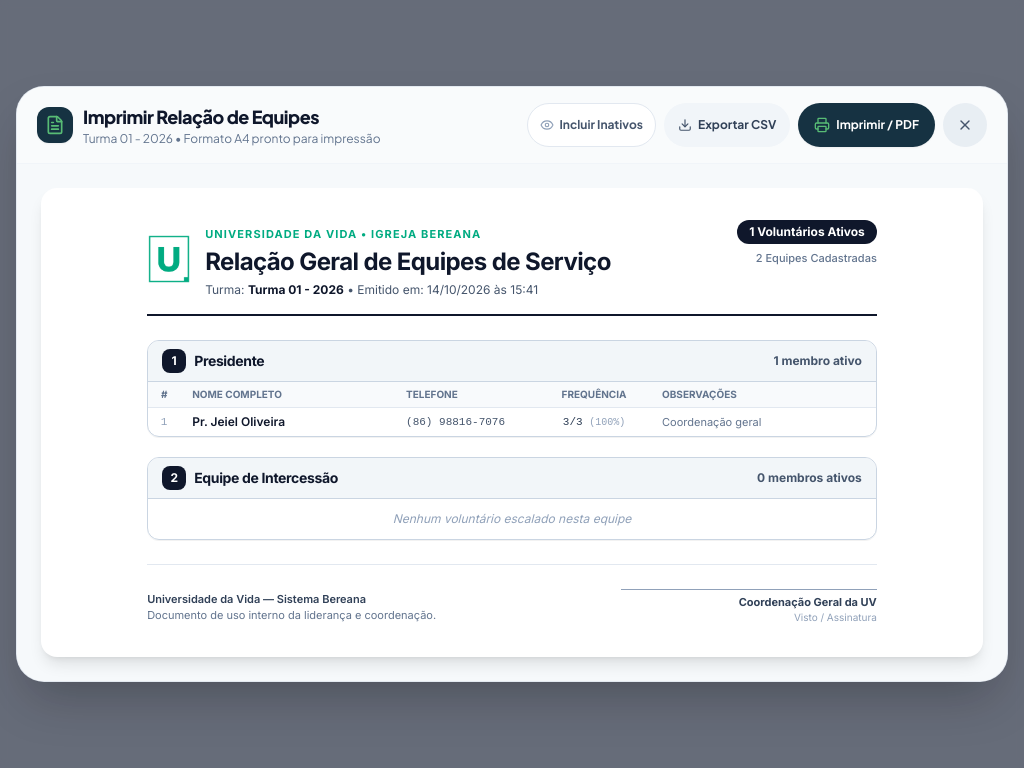
Test: TeamsPrintModal › deve exibir membro inativo quando o botão "Incluir Inativos" for clicado
What coordinates should you click on to do the following:
click the button "Incluir Inativos"
I would click on:
 (591, 125)
Its box is [526,103,656,147].
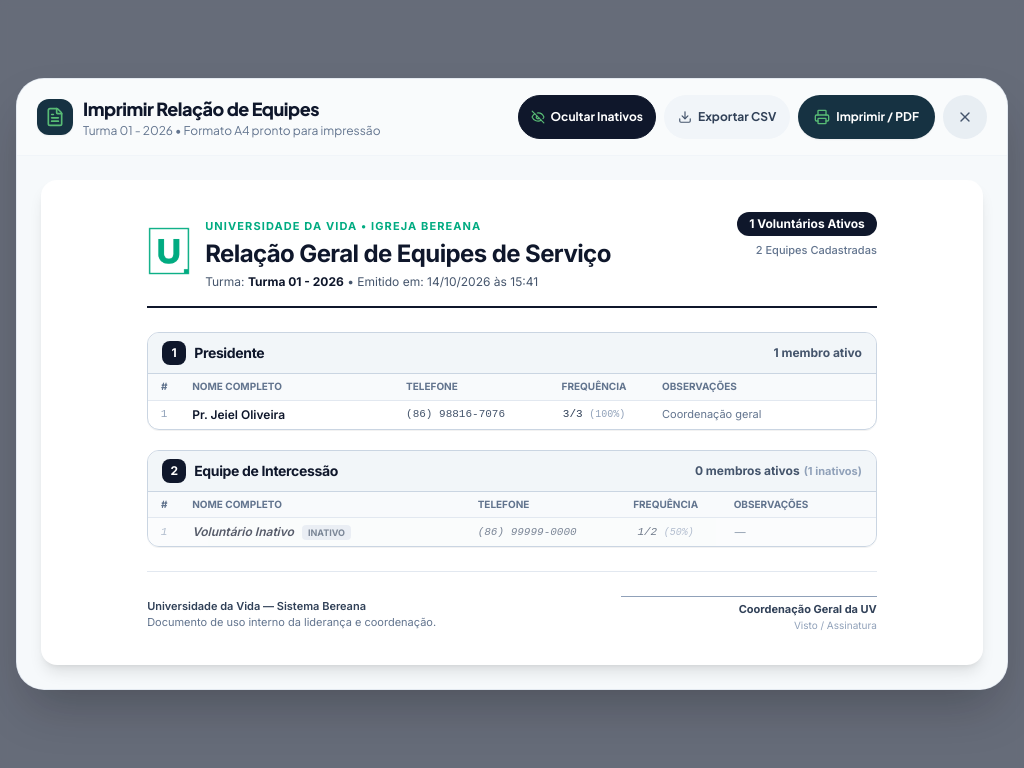
Now the text "Voluntário Inativo" is shown, box [192,524,294,539]
